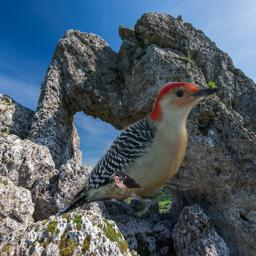Swallow: (111, 170, 143, 194)
Woodpecker: (58, 82, 225, 217)
